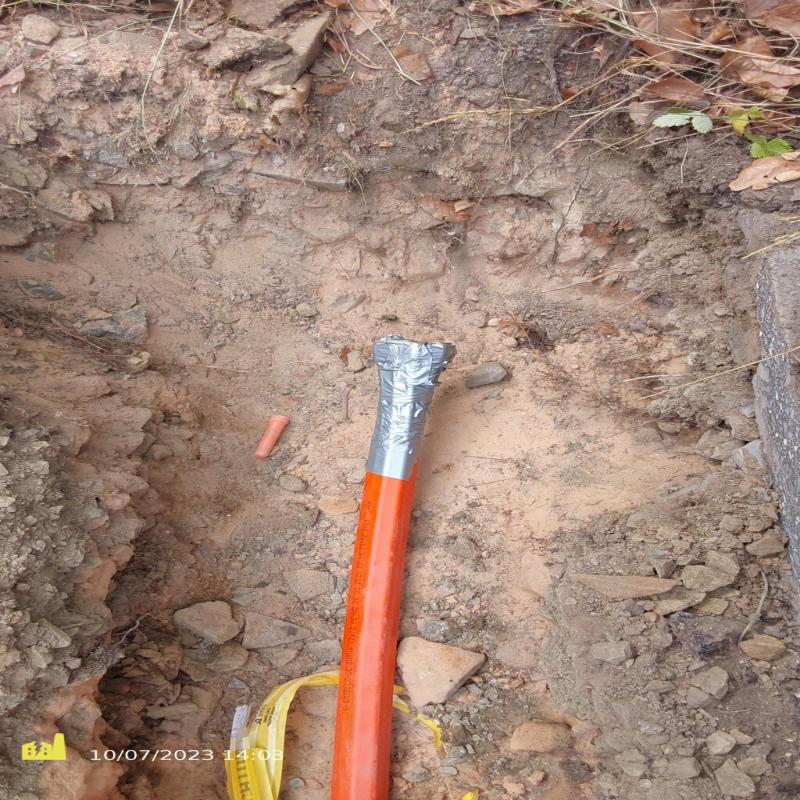Orang-Speednetrohrchen: (331, 335, 456, 800)
